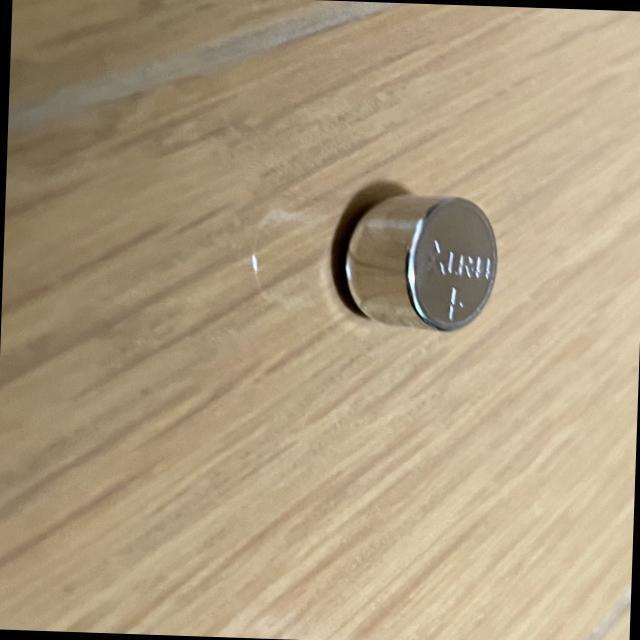COIN: (334, 190, 501, 335)
